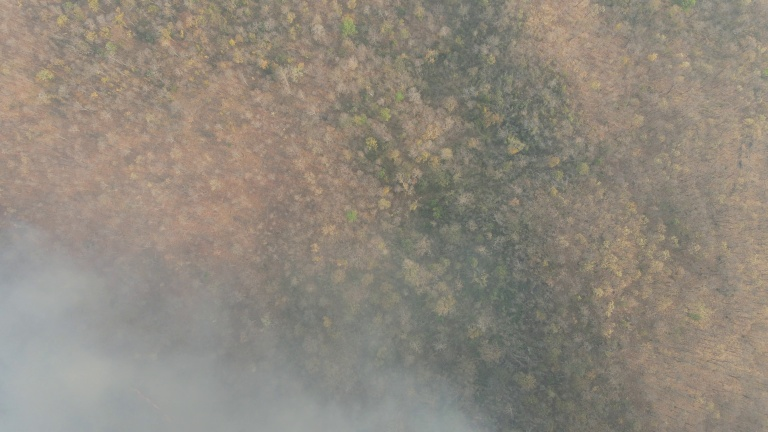fire: (131, 384, 163, 417)
smoke: (1, 260, 447, 431)
